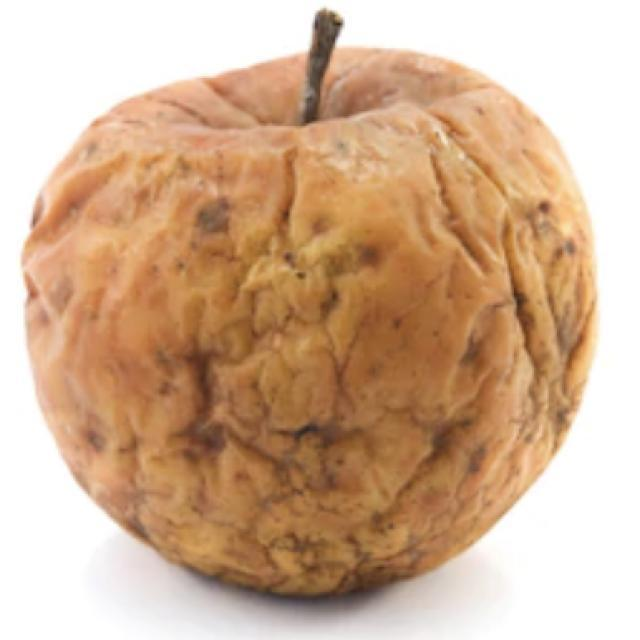Rotten: (7, 67, 598, 615)
